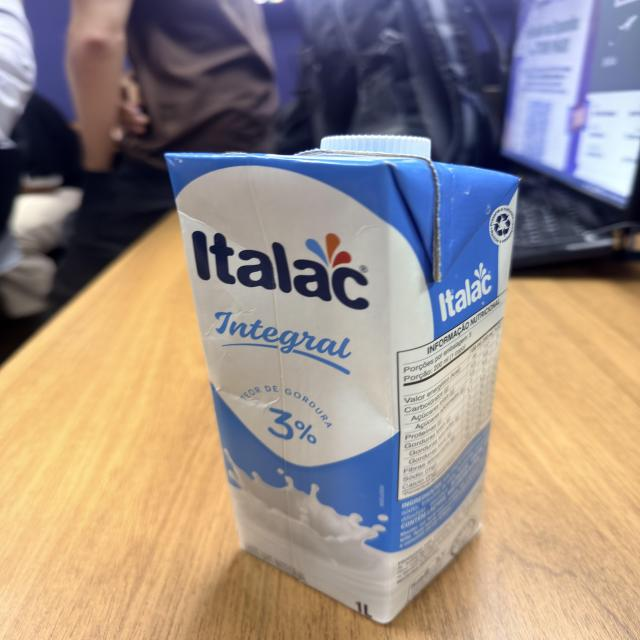Caixa de Leite: (162, 134, 520, 623)
